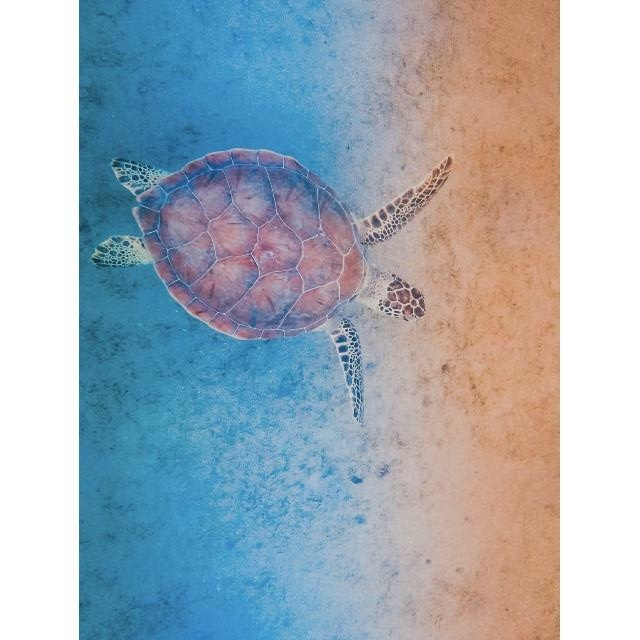turtle: (90, 147, 456, 420)
